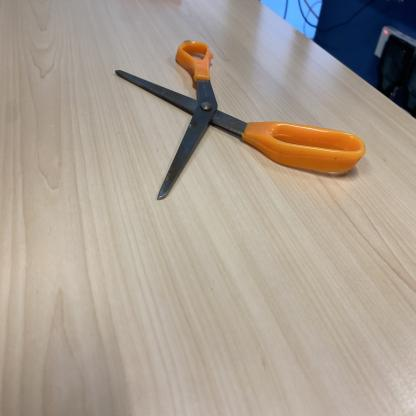scissors: (110, 39, 366, 203)
